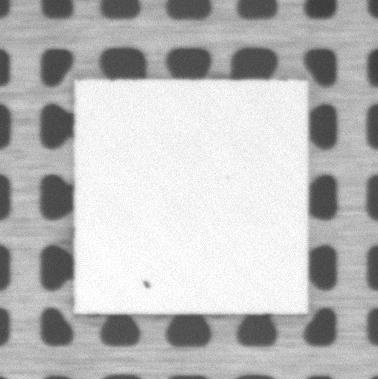DIE_INK: (142, 280, 153, 290)
